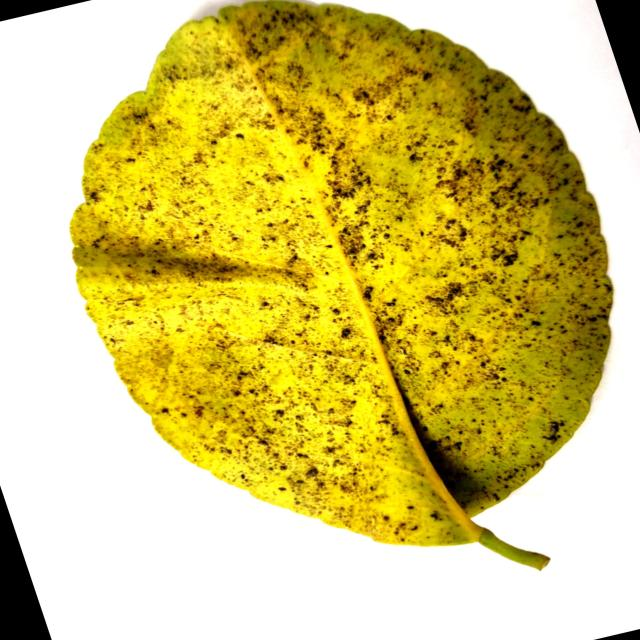melanose: (72, 1, 612, 567)
